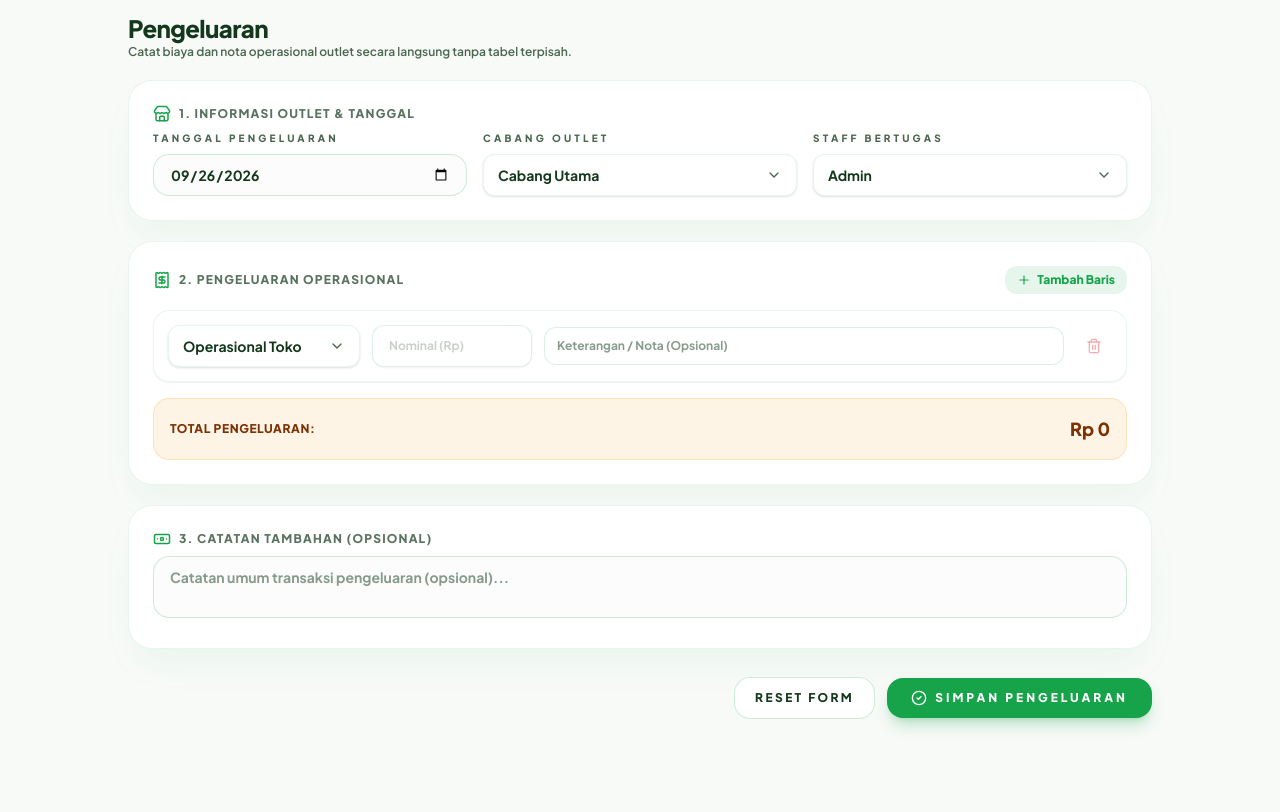
it: KasKeluarPanel › resets form when Reset Form is clicked
Type "100000" into the field with placeholder "Nominal (Rp)".
click(452, 346); type("100000")  # box top-left (372, 325), bottom-right (532, 367)
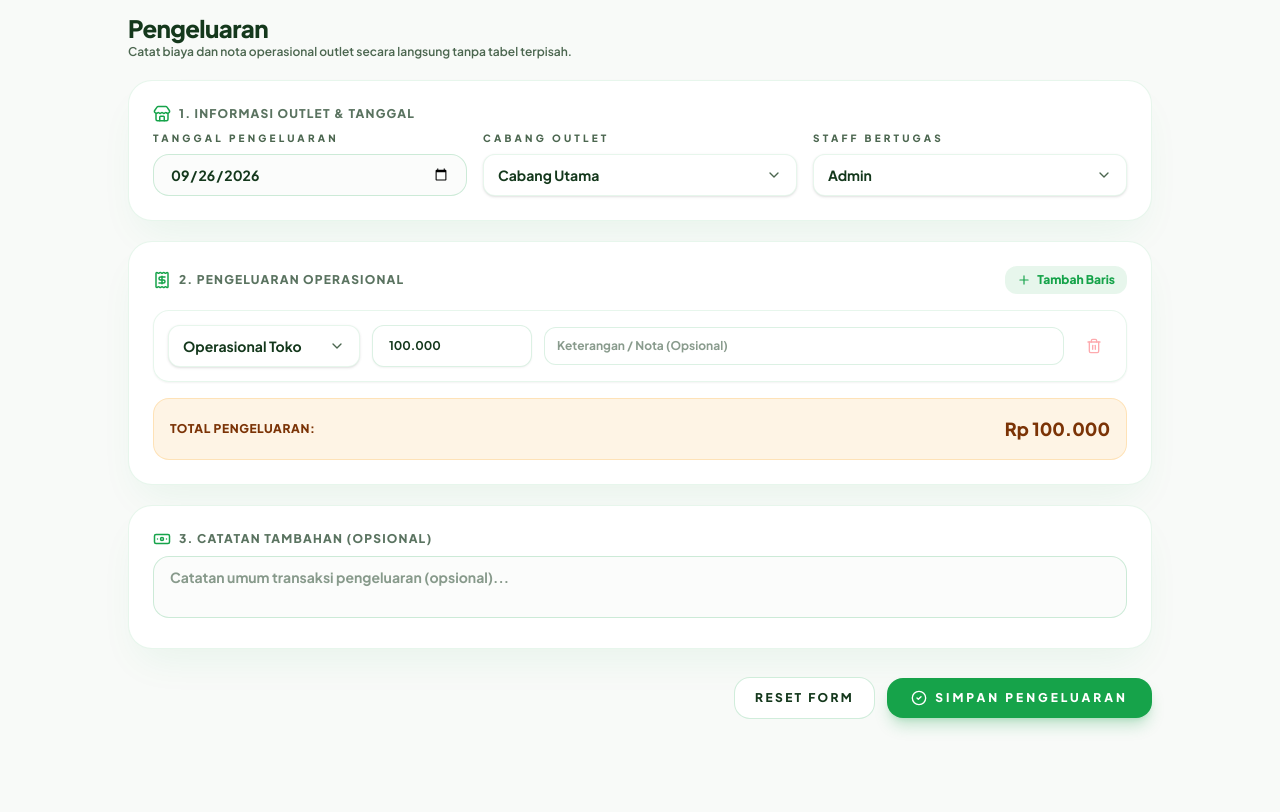
Expected: the text "Rp 100.000" is shown, top-left (1005, 415), bottom-right (1110, 443)
Click the button "Reset Form".
click(805, 698)  # box top-left (734, 677), bottom-right (875, 719)
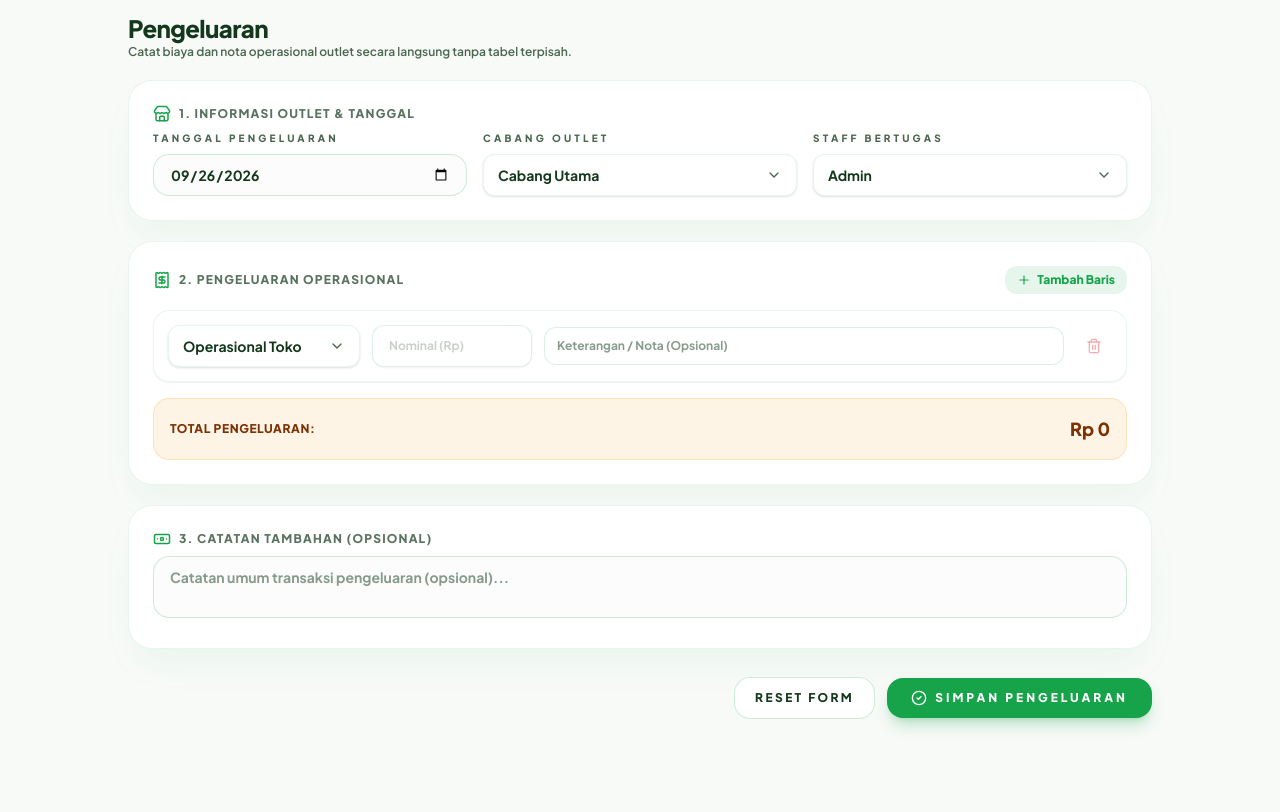
Expected: the field with placeholder "Nominal (Rp)" is empty, top-left (372, 325), bottom-right (532, 367)
Expected: the text "Rp 0" is shown, top-left (1070, 415), bottom-right (1110, 443)
